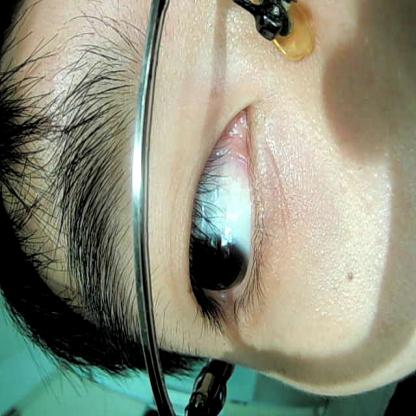Right: (169, 91, 270, 330)
